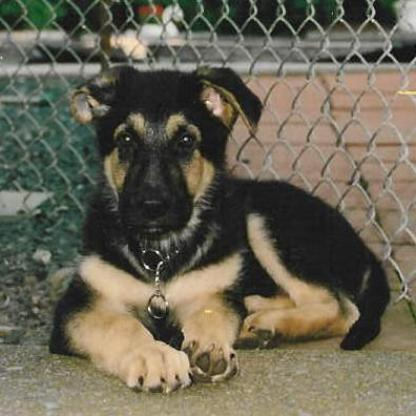German_shepherd: (45, 63, 392, 392)
